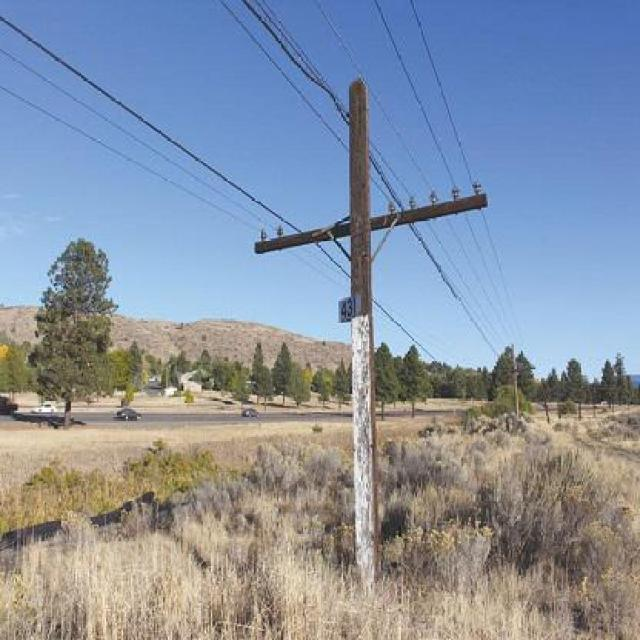pole: (249, 49, 494, 569)
